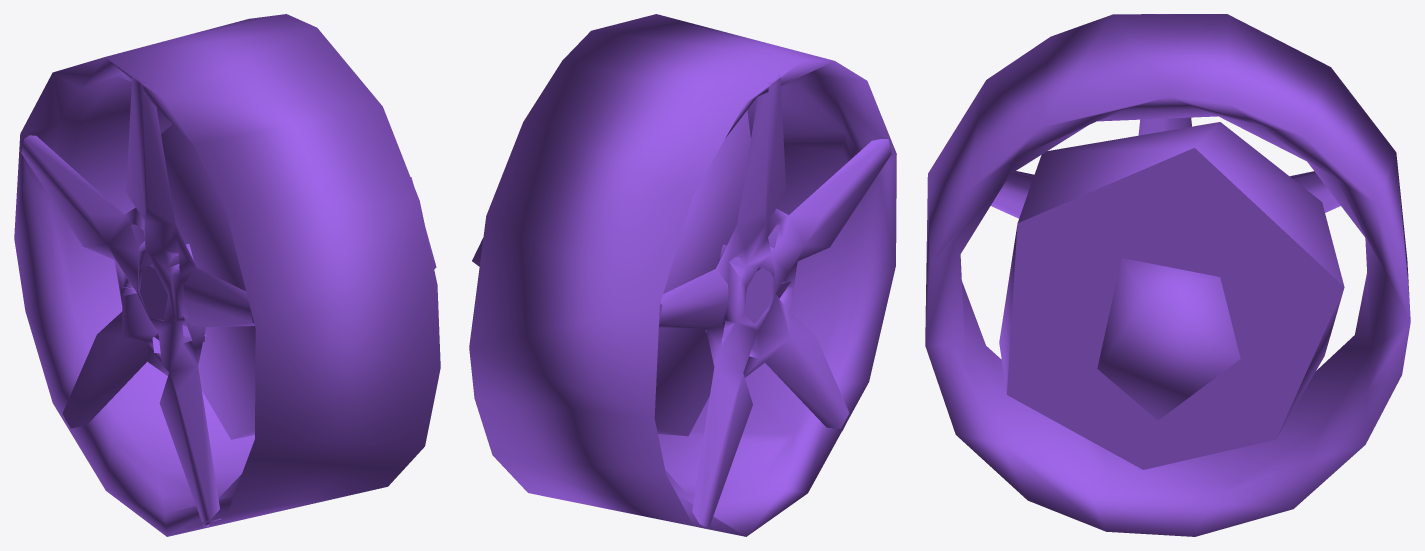
File: Ring_LOD1.fbx
3 views of the same model, side by side, from view 1: azimuth 30°, elevation 25°; view 2: azimuth 150°, elevation 25°; view 3: azimuth 270°, elevation 25° (orthographic).
Parts seen in each view (by area): view 1: Ring; view 2: Ring; view 3: Ring.
Boxes of the visible parts, x1,y1,x2,y2 form: Ring: [14, 14, 440, 536]; Ring: [469, 14, 896, 536]; Ring: [925, 14, 1410, 536].
Bounding box in the file's own units: 100 × 160 × 160.
